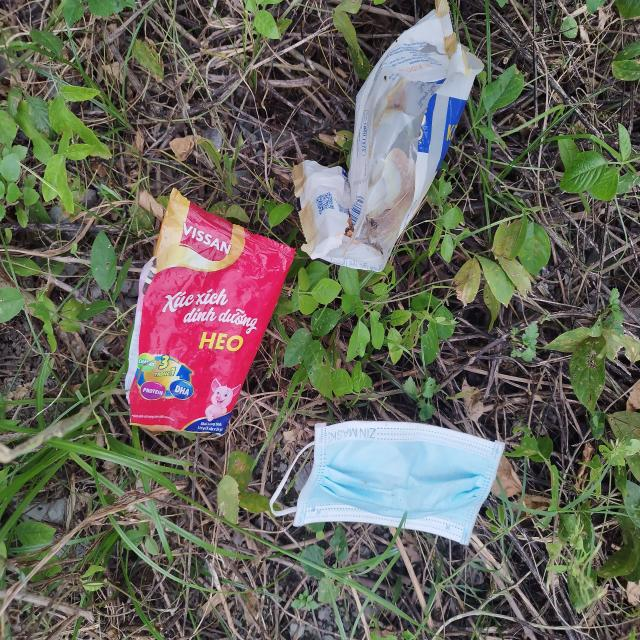mask: (270, 422, 506, 546)
packet: (291, 0, 485, 273)
snack package: (124, 188, 296, 435)
